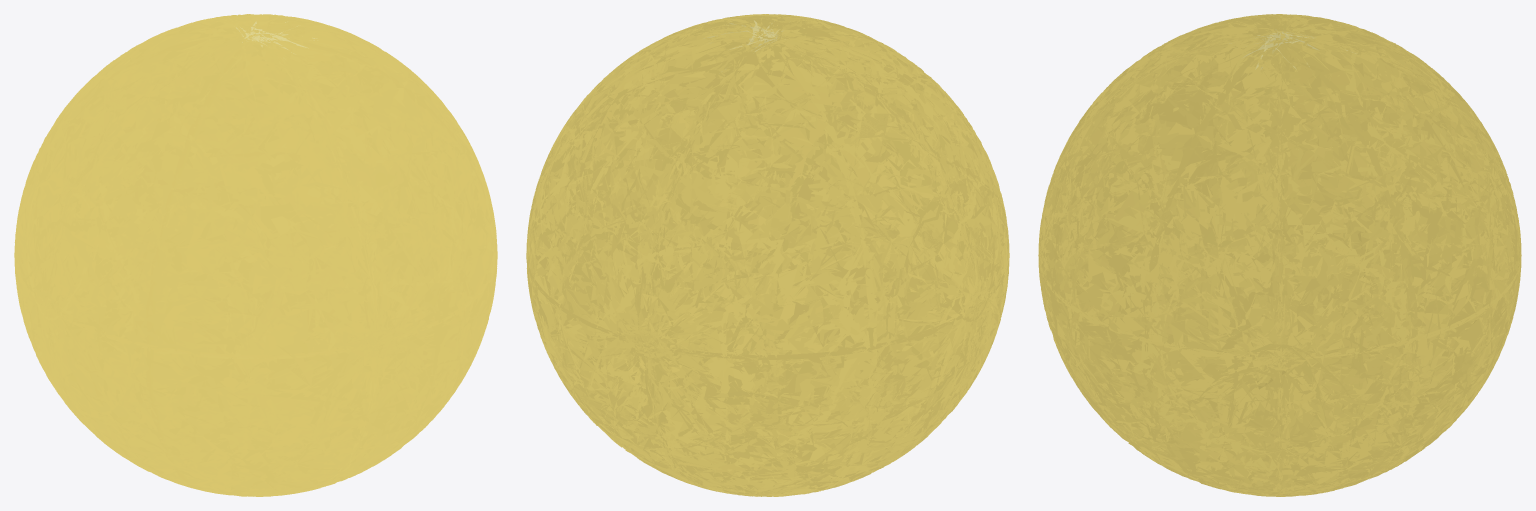
File: walk-2.glb
The picture shows the model from 3 angles, left to right: view 1: azimuth 30°, elevation 25°; view 2: azimuth 150°, elevation 25°; view 3: azimuth 270°, elevation 25°; orthographic projection.
Visible parts, largest first — view 1: grating_support; view 2: grating_support; view 3: grating_support, grating.
Part boxes in pixels (bbox=[...]): grating_support: bbox=[14, 14, 497, 496]; grating_support: bbox=[526, 14, 1009, 496]; grating_support: bbox=[1038, 14, 1521, 496]; grating: bbox=[1229, 29, 1356, 69].
Bounding box in the file's own units: 2 × 2 × 2.
